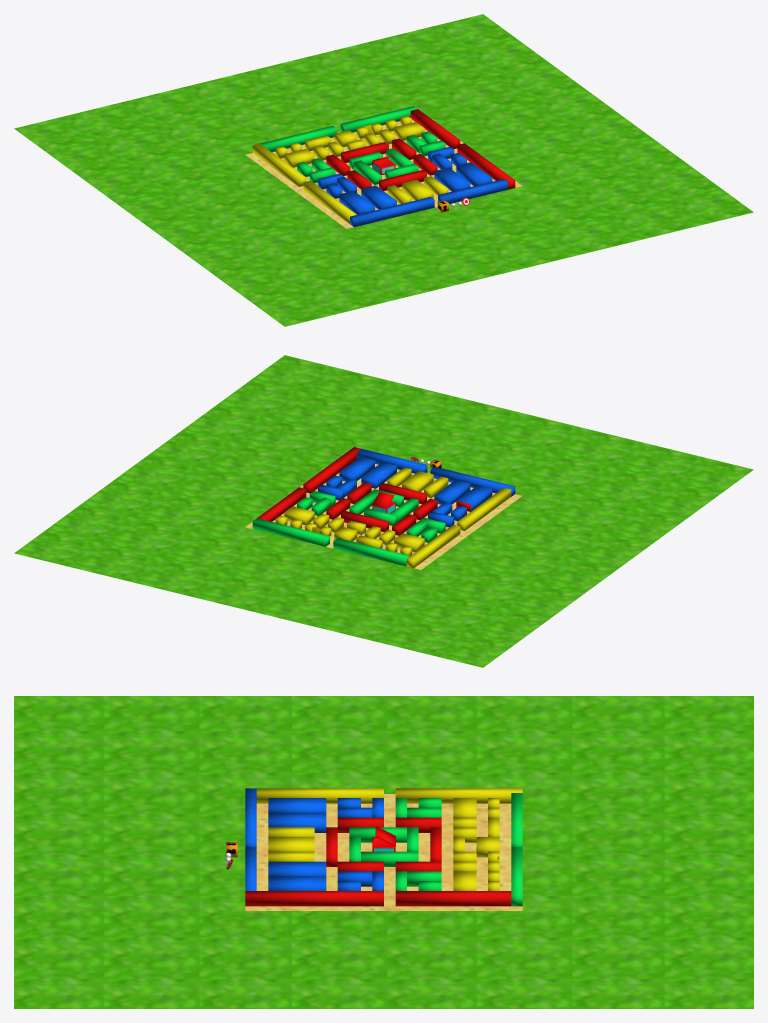
Rendered from Playful Playground Challenge Level.fbx.
3 renders of one model, top to bottom at view 1: azimuth 30°, elevation 25°; view 2: azimuth 150°, elevation 25°; view 3: azimuth 270°, elevation 25°, orthographic. The views are drawn at different scales.
Visible parts, largest first — view 1: Plane, Wall4, Wall3, Wall2, Wall8, Wall5, Wall1, Wall6, Wall7, Block4, Block3, Block2 (+1 smaller); view 2: Plane, Wall6, Wall5, Wall4, Wall8, Wall2, Wall1, Wall3, Wall7, Block, Block2, Block3 (+1 smaller); view 3: Plane, Wall8, Wall7, Wall2, Wall1, Block2, Block3, Block, Block4, Wall6, Wall4, Block8 (+6 smaller).
Boxes of the visible parts, left/top/right/bottom form: Plane: left=14, top=14, right=753, bottom=326; Wall4: left=350, top=197, right=434, bottom=227; Wall3: left=438, top=179, right=507, bottom=203; Wall2: left=252, top=143, right=306, bottom=186; Wall8: left=457, top=143, right=515, bottom=189; Wall5: left=260, top=125, right=337, bottom=152; Wall1: left=303, top=180, right=356, bottom=223; Wall6: left=340, top=106, right=417, bottom=132; Wall7: left=410, top=109, right=460, bottom=149; Block4: left=456, top=162, right=492, bottom=186; Block3: left=434, top=167, right=470, bottom=191; Block2: left=361, top=185, right=396, bottom=209; Plane: left=14, top=355, right=753, bottom=667; Wall6: left=252, top=518, right=329, bottom=546; Wall5: left=333, top=538, right=410, bottom=566; Wall4: left=430, top=466, right=515, bottom=496; Wall8: left=303, top=447, right=360, bottom=493; Wall2: left=406, top=525, right=460, bottom=568; Wall1: left=457, top=487, right=511, bottom=530; Wall3: left=357, top=449, right=427, bottom=473; Wall7: left=257, top=487, right=306, bottom=521; Block: left=456, top=485, right=492, bottom=511; Block2: left=434, top=480, right=470, bottom=504; Block3: left=361, top=462, right=396, bottom=488; Plane: left=14, top=696, right=753, bottom=1008; Wall8: left=245, top=891, right=383, bottom=906; Wall7: left=395, top=891, right=511, bottom=906; Wall2: left=395, top=788, right=522, bottom=803; Wall1: left=256, top=788, right=383, bottom=803; Block2: left=268, top=812, right=326, bottom=832; Block3: left=268, top=861, right=326, bottom=876; Block: left=268, top=798, right=326, bottom=812; Block4: left=268, top=876, right=326, bottom=890; Wall6: left=511, top=847, right=522, bottom=906; Wall4: left=245, top=788, right=256, bottom=846; Block8: left=268, top=837, right=314, bottom=851.
Size of the model in its own units: 12800 by 417 by 12800.
11 materials, 6 textured.
